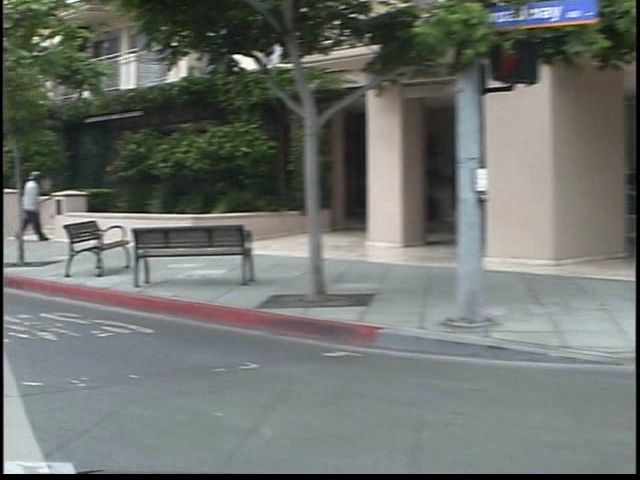person: (3, 163, 43, 253)
